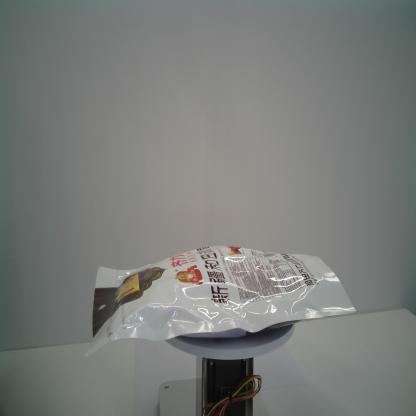Dried Food: (77, 242, 359, 360)
